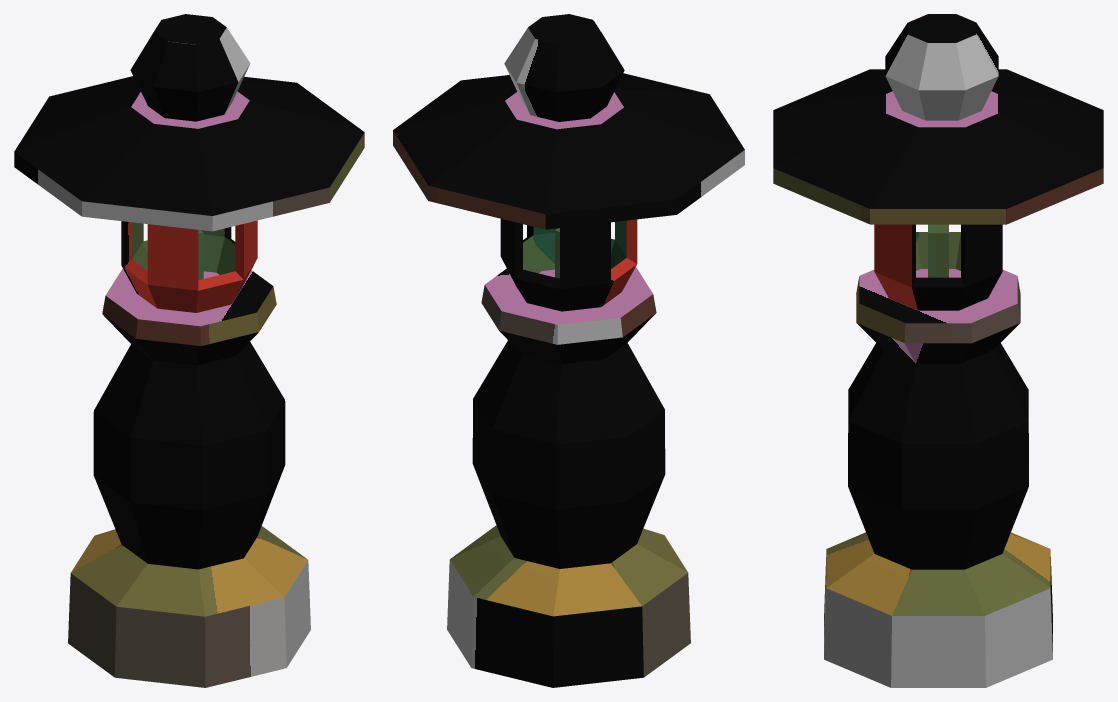
Rendered from Lantern.fbx.
The picture shows the model from 3 angles, left to right: view 1: azimuth 30°, elevation 25°; view 2: azimuth 150°, elevation 25°; view 3: azimuth 270°, elevation 25°; orthographic projection.
Parts seen in each view (by area): view 1: Lantern; view 2: Lantern; view 3: Lantern.
Boxes of the visible parts, x1,y1,x2,y2 form: Lantern: (14, 14, 364, 687); Lantern: (393, 14, 744, 687); Lantern: (773, 14, 1103, 687).
Bounding box in the file's own units: 73.75 × 151 × 73.75.
